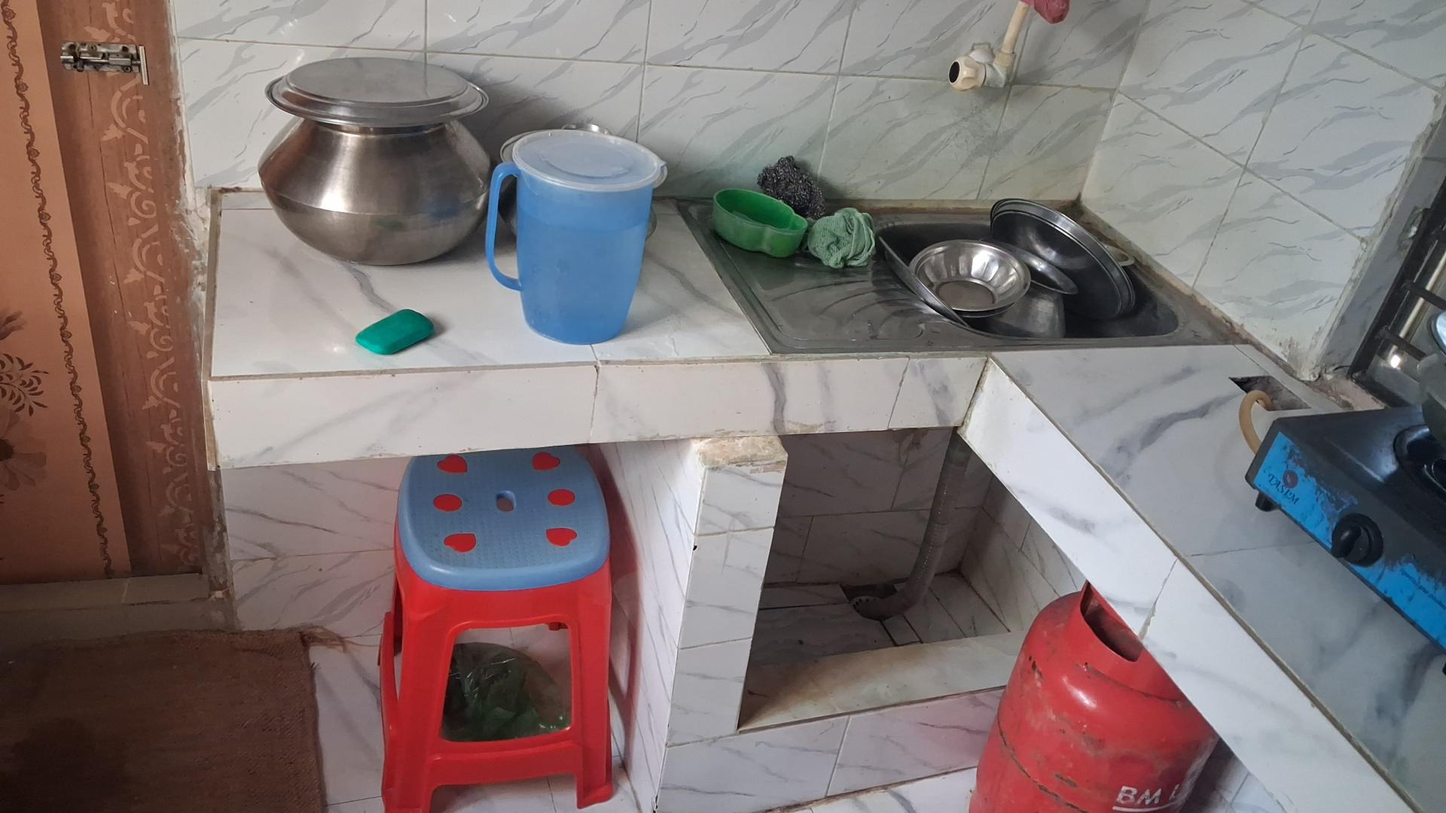Bowl: (912, 241, 1026, 312)
Jar: (713, 187, 811, 261)
Jug: (485, 135, 666, 345)
Pot: (256, 62, 490, 261)
Soap: (349, 307, 433, 352)
Stool: (378, 445, 617, 809)
